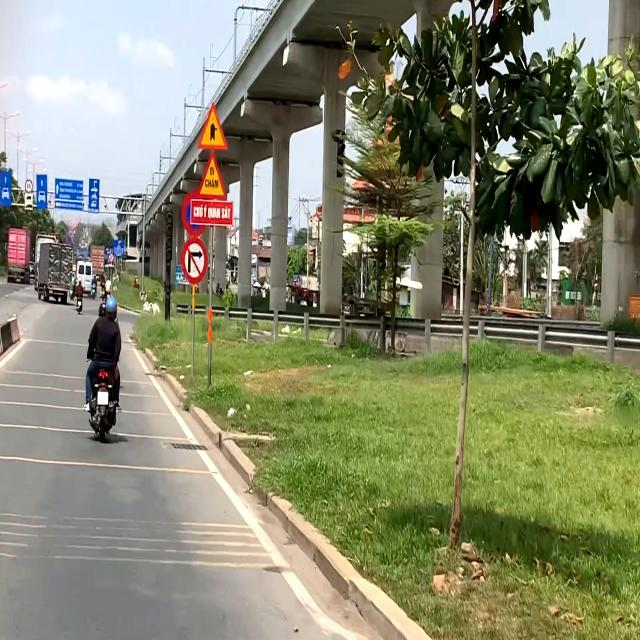Cam re phai: (181, 237, 206, 283)
Di cham: (196, 151, 228, 201)
Giao nhau voi duong khong uu tien ben phai: (197, 100, 230, 152)
